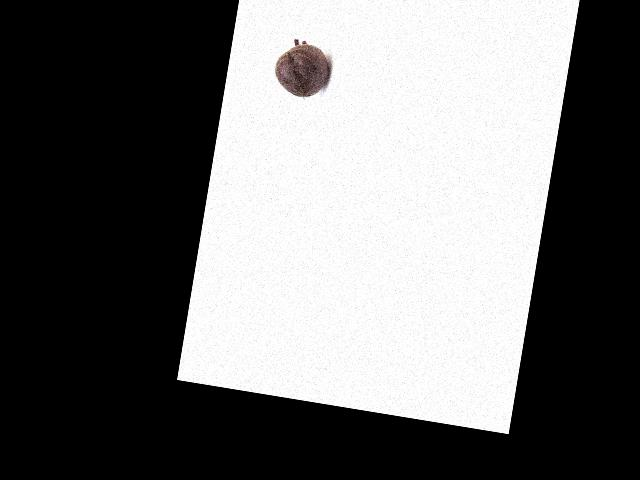beet: (271, 37, 334, 101)
